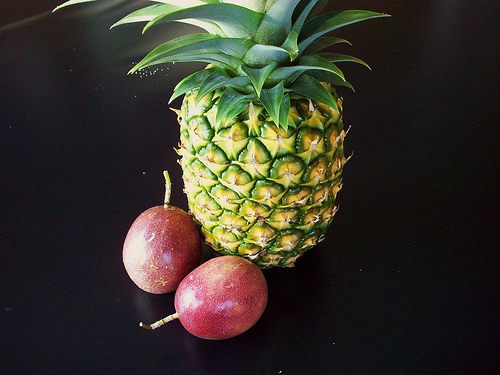pineapple: (51, 0, 393, 274)
